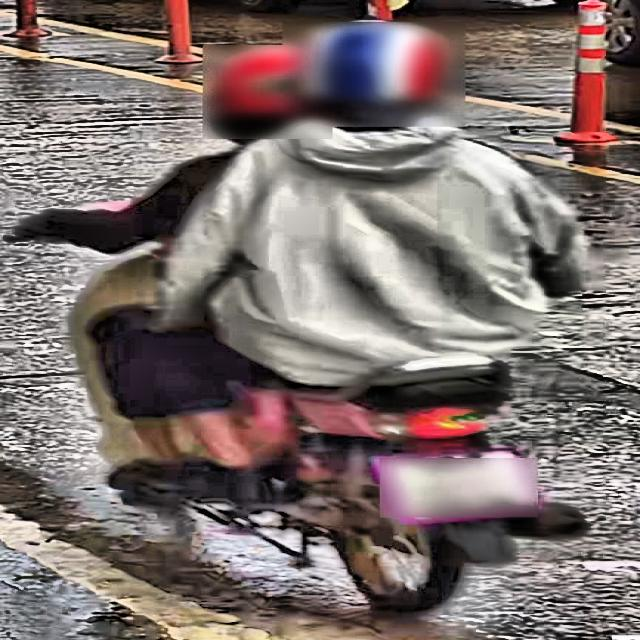motorcycle: (40, 158, 601, 625)
